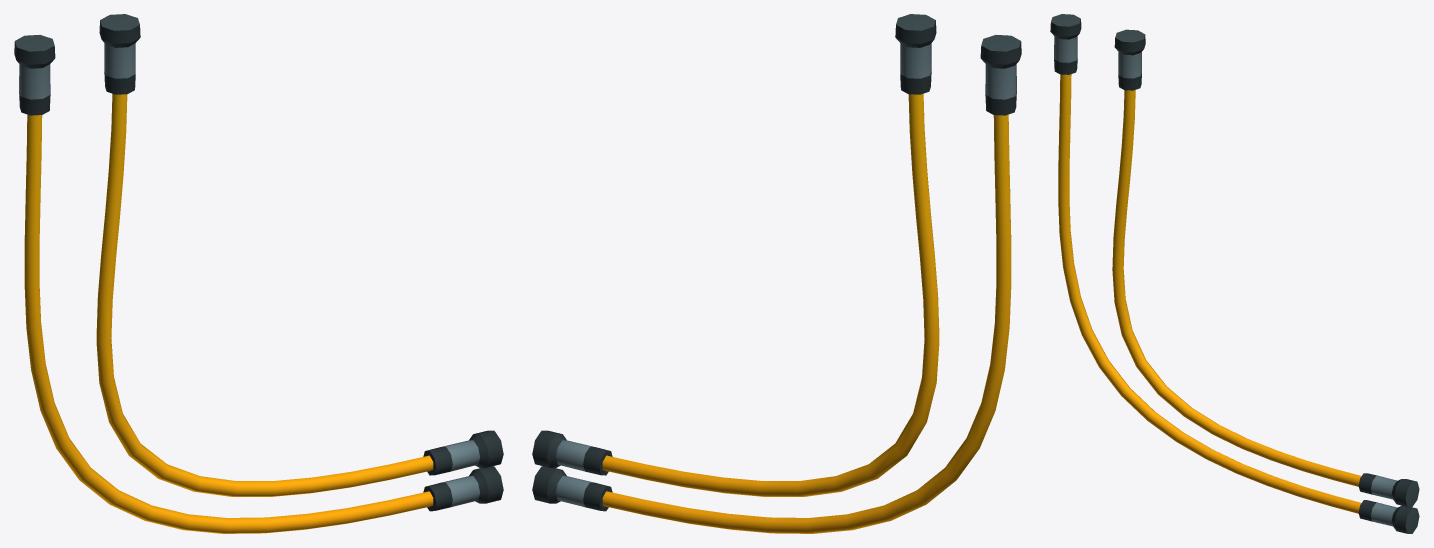
The model's file is Cable_type_C_004.glb.
3 renders of one model, left to right at view 1: azimuth 30°, elevation 25°; view 2: azimuth 150°, elevation 25°; view 3: azimuth 330°, elevation 25°, orthographic. The views are drawn at different scales.
Parts seen in each view (by area): view 1: Cable_type_C_004; view 2: Cable_type_C_004; view 3: Cable_type_C_004.
Boxes of the visible parts, bbox=[...] form: Cable_type_C_004: bbox=[14, 14, 503, 533]; Cable_type_C_004: bbox=[532, 14, 1021, 533]; Cable_type_C_004: bbox=[1050, 14, 1419, 533].
Size of the model in its own units: 1.16 by 1.32 by 0.0891.
Materials: 1 (1 with a texture image).
